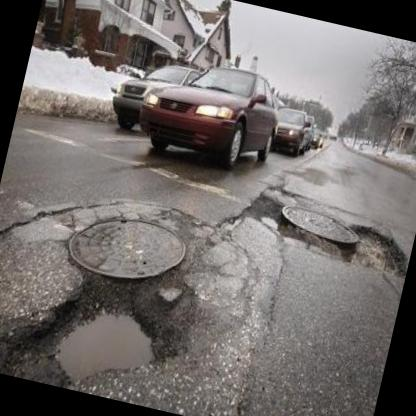pothole: (0, 240, 203, 412), (340, 218, 415, 284), (235, 182, 291, 238)
